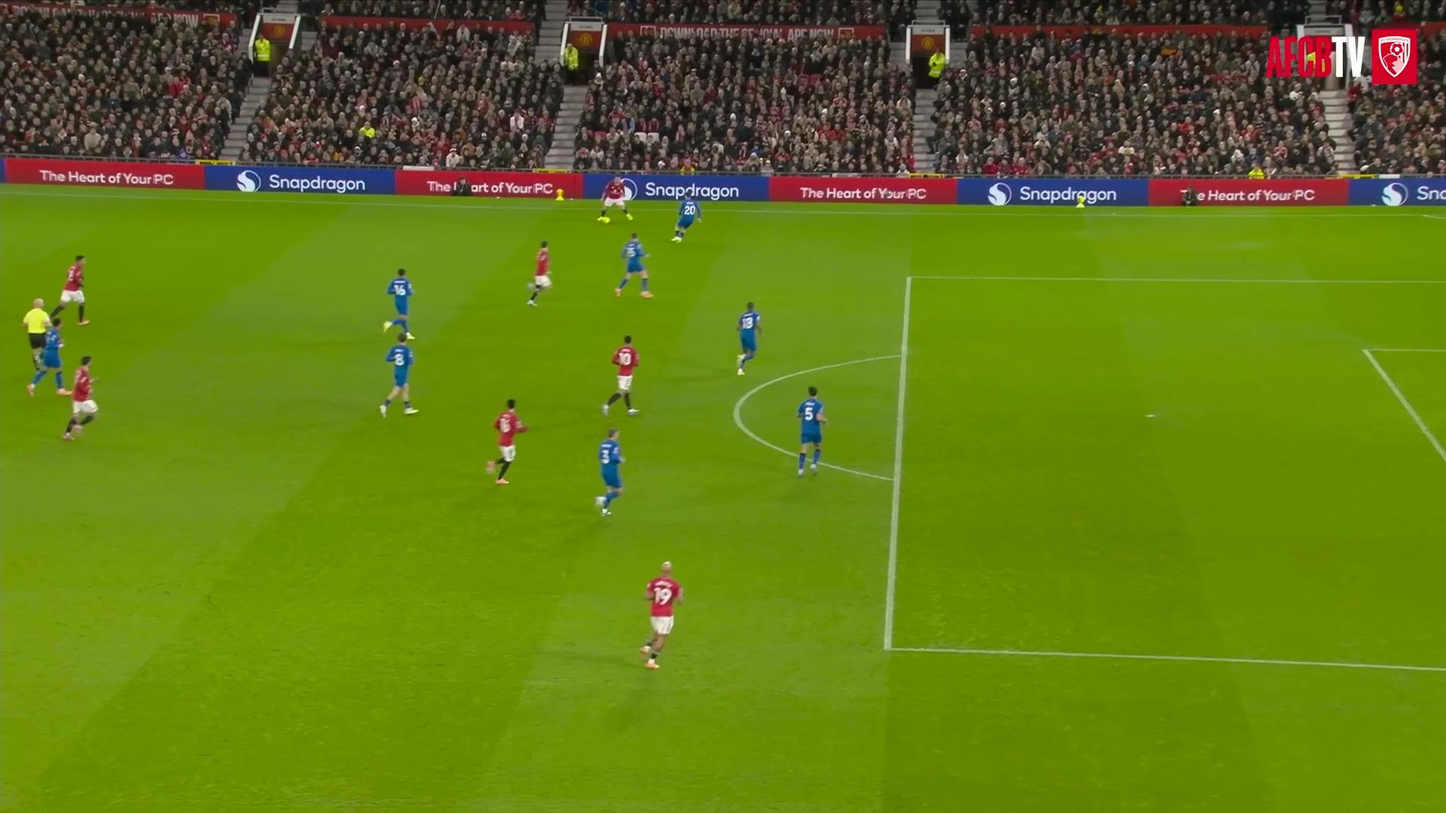football: (595, 211, 616, 230)
player: (640, 562, 682, 668), (487, 399, 528, 484), (27, 317, 70, 396), (380, 332, 419, 416), (63, 355, 97, 440), (602, 336, 638, 416), (797, 386, 826, 477), (50, 254, 88, 323), (595, 429, 624, 516), (615, 233, 651, 297), (383, 269, 414, 338), (23, 298, 50, 370), (737, 302, 761, 375), (598, 175, 633, 224), (527, 241, 551, 306), (672, 196, 701, 242)
referee: (23, 299, 50, 368)
